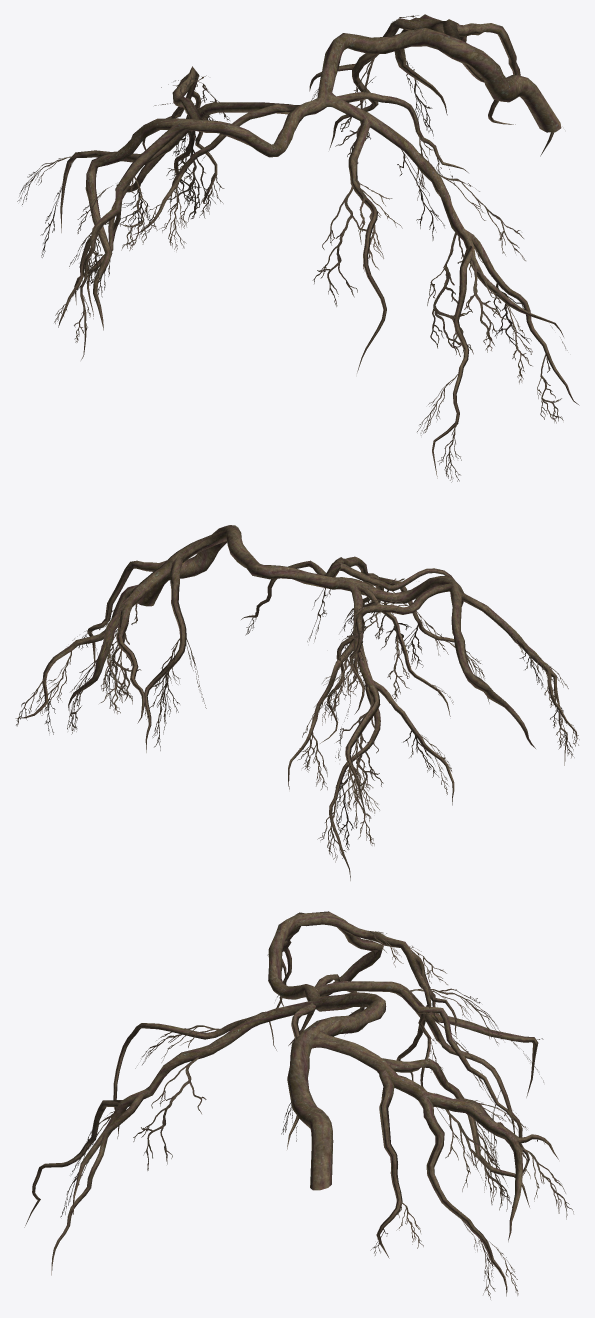
File: Plant - Alien Roots 01-DbMrpz-E.glb
3 views of the same model, one above another, from view 1: azimuth 30°, elevation 25°; view 2: azimuth 150°, elevation 25°; view 3: azimuth 270°, elevation 25° (orthographic). The views are drawn at different scales.
Parts seen in each view (by area): view 1: Roots_01(Clone), Roots_01_Branch(Clone); view 2: Roots_01(Clone), Roots_01_Branch(Clone); view 3: Roots_01(Clone), Roots_01_Branch(Clone).
Boxes of the visible parts, <box> form: Roots_01(Clone): <box>58,14,579,478</box>; Roots_01_Branch(Clone): <box>17,15,567,482</box>; Roots_01(Clone): <box>15,525,577,880</box>; Roots_01_Branch(Clone): <box>16,578,579,862</box>; Roots_01(Clone): <box>24,911,558,1296</box>; Roots_01_Branch(Clone): <box>60,926,573,1299</box>.
Size of the model in its own units: 6.67 by 3.43 by 5.92.
2 materials, 2 textured.
